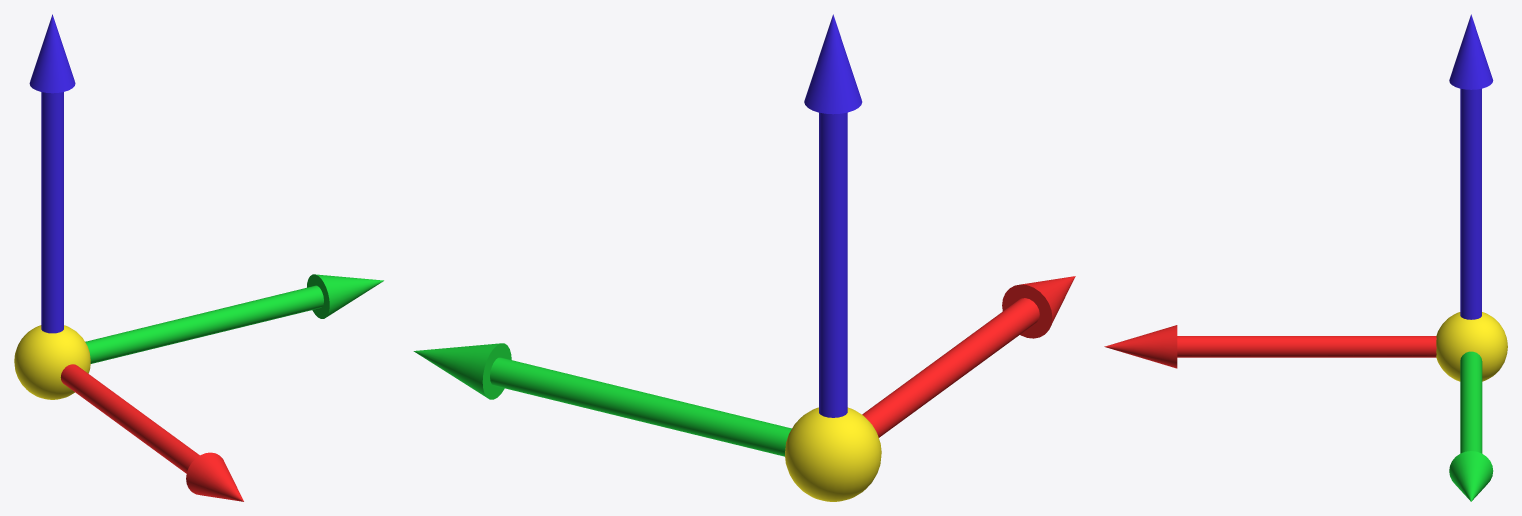
File: axis.FBX
3 renders of one model, left to right at view 1: azimuth 30°, elevation 25°; view 2: azimuth 150°, elevation 25°; view 3: azimuth 270°, elevation 25°, orthographic. The views are drawn at different scales.
Parts seen in each view (by area): view 1: up-axis, forward-axis, right-axis, pivot; view 2: up-axis, forward-axis, right-axis, pivot; view 3: right-axis, up-axis, forward-axis, pivot.
Boxes of the visible parts, <box> form: up-axis: <box>29,14,75,333</box>; forward-axis: <box>85,274,383,363</box>; right-axis: <box>60,364,243,501</box>; pivot: <box>14,325,90,399</box>; up-axis: <box>804,14,862,417</box>; forward-axis: <box>413,343,791,456</box>; right-axis: <box>862,276,1075,437</box>; pivot: <box>785,407,881,501</box>; right-axis: <box>1104,325,1436,368</box>; up-axis: <box>1449,14,1493,319</box>; forward-axis: <box>1449,351,1493,501</box>; pivot: <box>1436,312,1507,381</box>.
Bounding box in the file's own units: 0.55 × 0.55 × 0.55.
